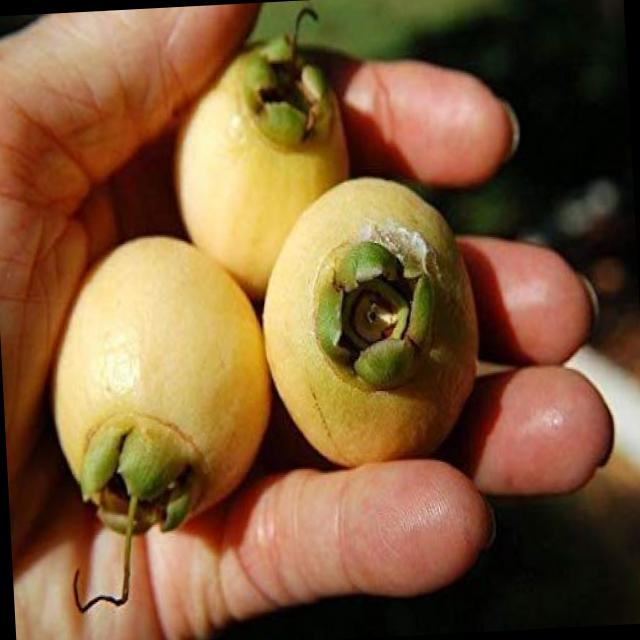Medicinal-Rose Apple: (42, 15, 494, 512)
